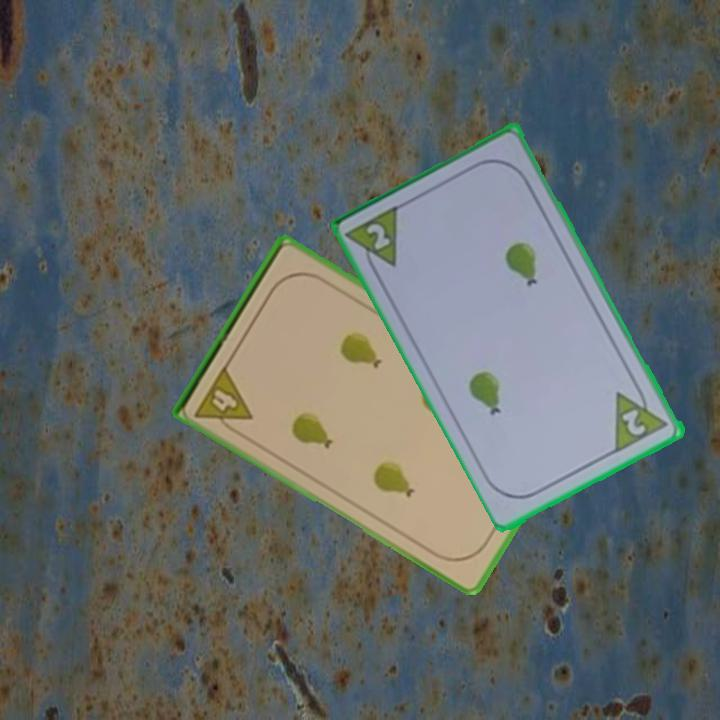2p: (344, 201, 404, 281), (611, 379, 672, 456)
4p: (191, 362, 256, 439)
